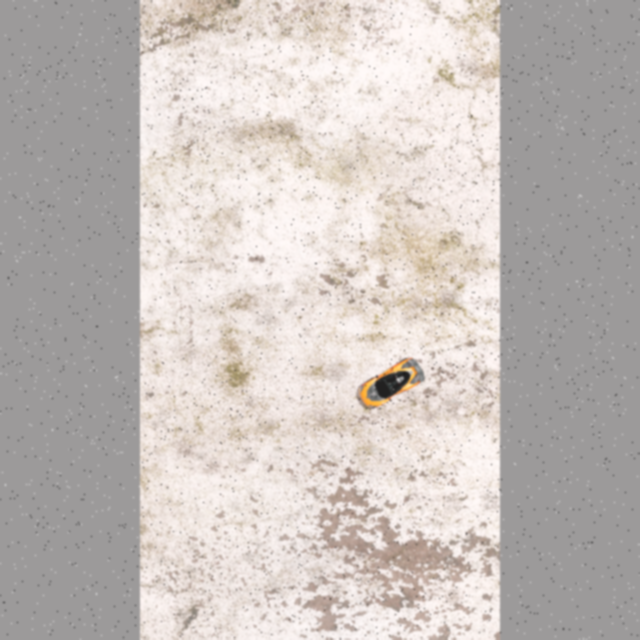car: (353, 353, 428, 415)
